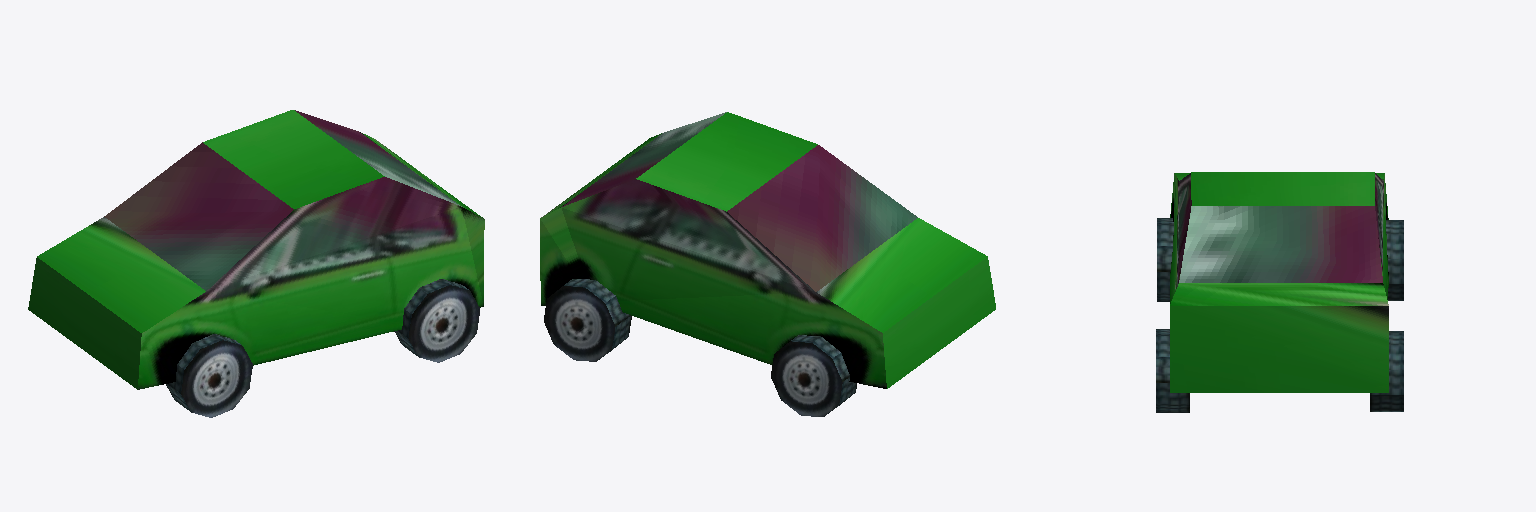
3 views of the same model, side by side, from view 1: azimuth 30°, elevation 25°; view 2: azimuth 150°, elevation 25°; view 3: azimuth 270°, elevation 25° (orthographic).
Parts seen in each view (by area): view 1: Plane, Circle_Circle.006, Circle.005_Circle.007; view 2: Plane, Circle.004, Circle.002_Circle.005; view 3: Plane, Circle_Circle.006, Circle.004, Circle.002_Circle.005, Circle.005_Circle.007.
Part boxes in pixels (bbox=[...]): Plane: bbox=[28, 110, 484, 389]; Circle_Circle.006: bbox=[394, 279, 479, 362]; Circle.005_Circle.007: bbox=[166, 334, 252, 417]; Plane: bbox=[540, 112, 995, 388]; Circle.004: bbox=[544, 279, 631, 361]; Circle.002_Circle.005: bbox=[771, 335, 856, 416]; Plane: bbox=[1170, 172, 1388, 392]; Circle_Circle.006: bbox=[1156, 329, 1189, 412]; Circle.004: bbox=[1370, 331, 1403, 411]; Circle.002_Circle.005: bbox=[1386, 220, 1403, 300]; Circle.005_Circle.007: bbox=[1157, 218, 1173, 301].
Size of the model in its own units: 1.37 by 0.6902 by 0.851.
2 materials, 1 textured.